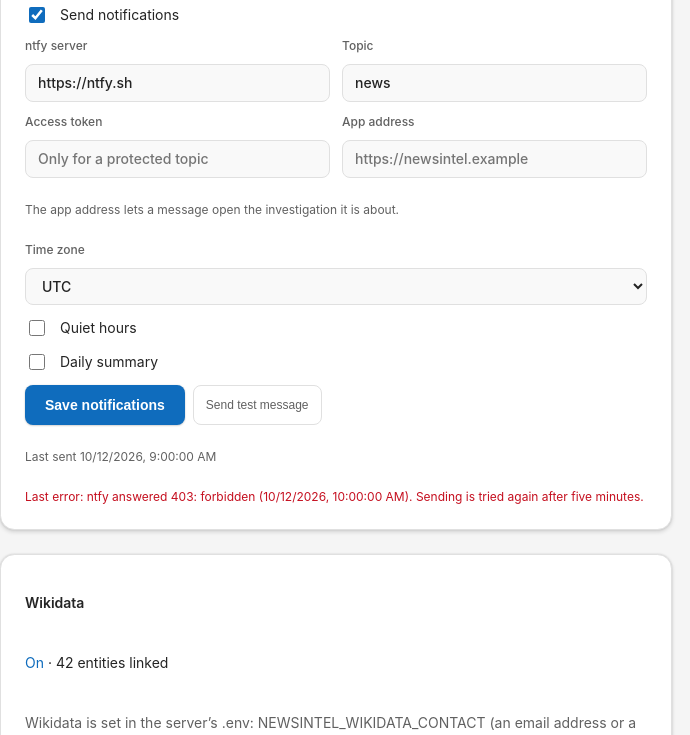
Test: sends a test message and shows the last delivery and the last error
(page scrolled)
Expected: the text "Last sent 10/12/2026, 9:00:00 AM" is shown, [25, 449, 216, 464]
Expected: the text "Last error: ntfy answered 403: forbidden" is shown, [25, 489, 647, 505]
Click the button "Send test message": [257, 405] box [193, 385, 322, 425]
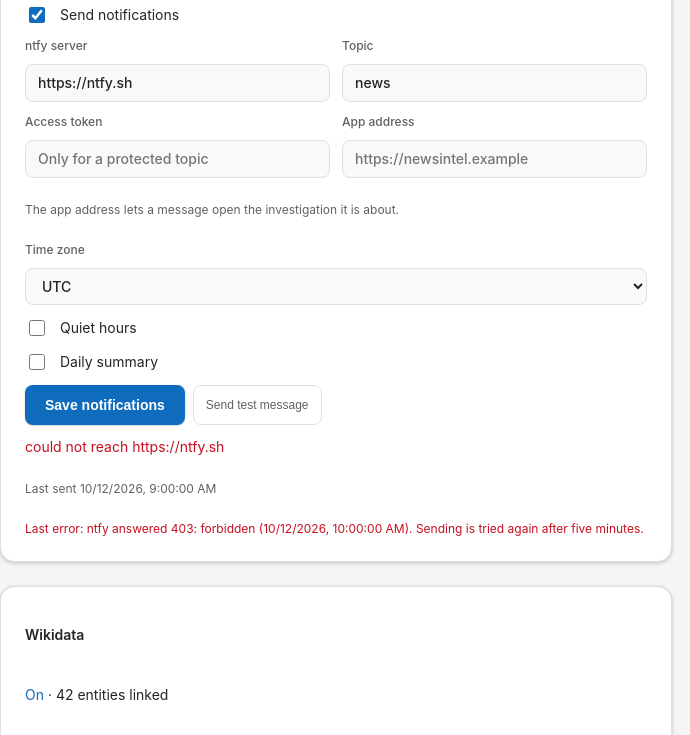
Expected: the message reads "could not reach https://ntfy.sh", [25, 438, 224, 455]
Click the button "Send test message": [257, 405] box [193, 385, 322, 425]
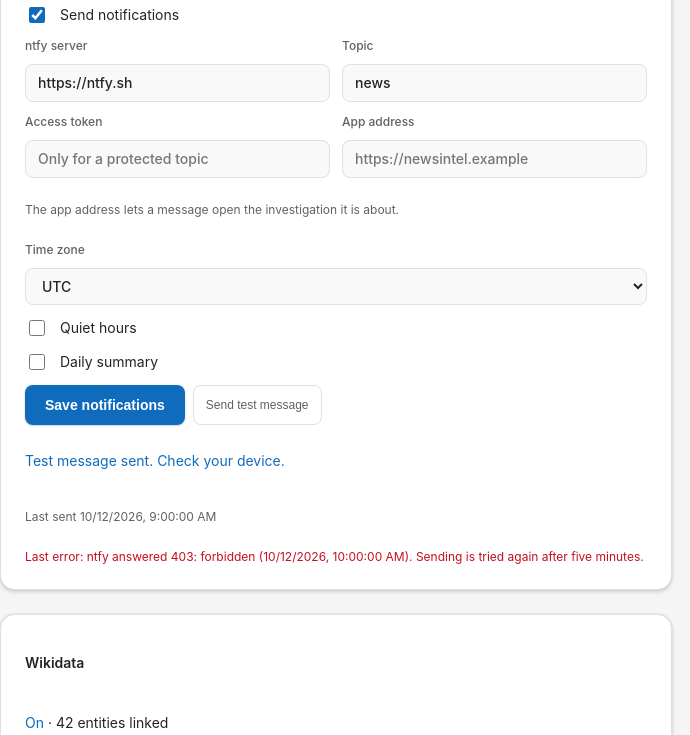
Expected: the text "Test message sent. Check your device." is shown, [25, 452, 285, 469]
